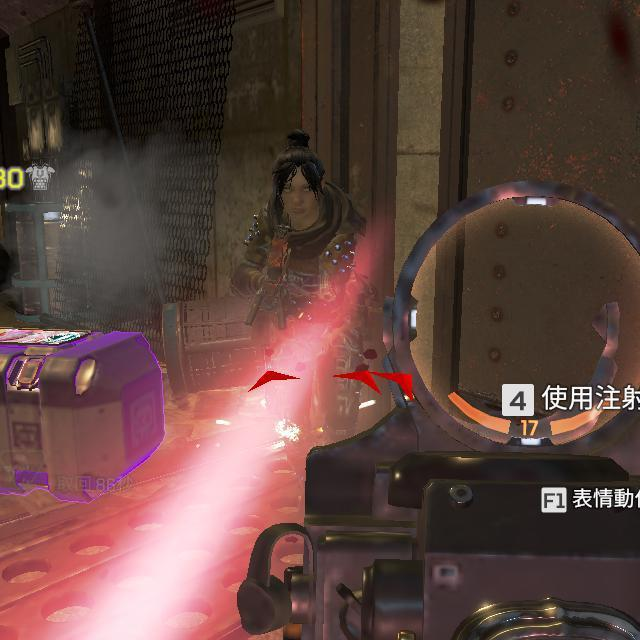avatar: (225, 124, 378, 443)
